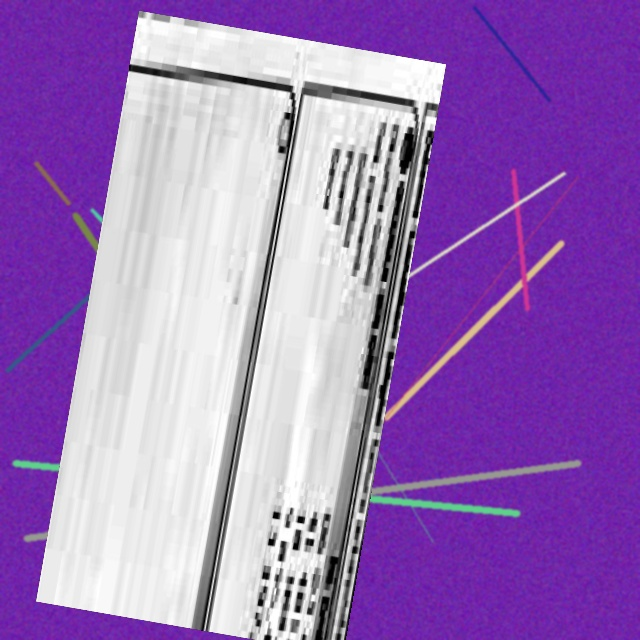electricity-bill: (35, 10, 445, 639)
